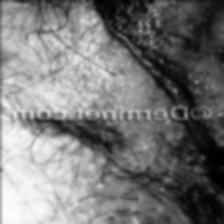Toxin: (28, 116, 127, 149)
